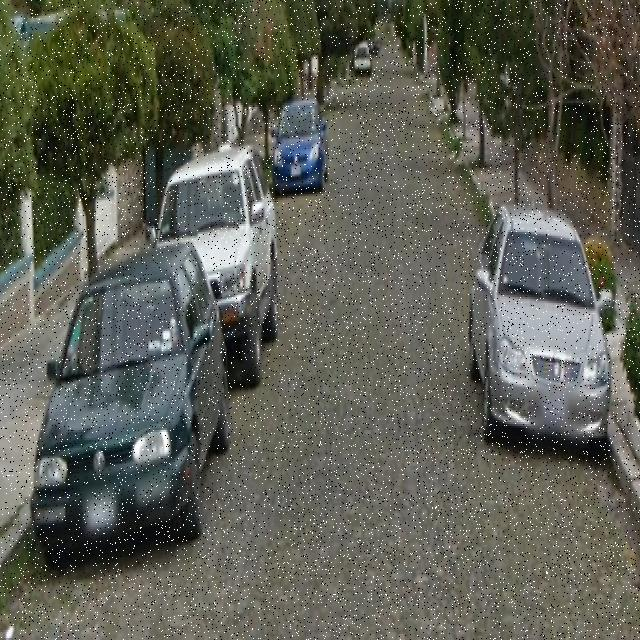cars: (35, 262, 228, 555), (474, 203, 614, 449), (164, 152, 276, 376), (278, 96, 326, 186), (353, 36, 377, 94)
